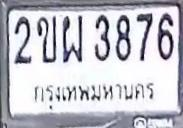2: (14, 16, 32, 64)
3: (93, 14, 110, 61)
6: (157, 12, 173, 60)
7: (136, 13, 153, 61)
8: (115, 14, 131, 61)
A02: (36, 16, 56, 63)
A28: (61, 15, 83, 63)
BKK: (27, 75, 157, 109)
